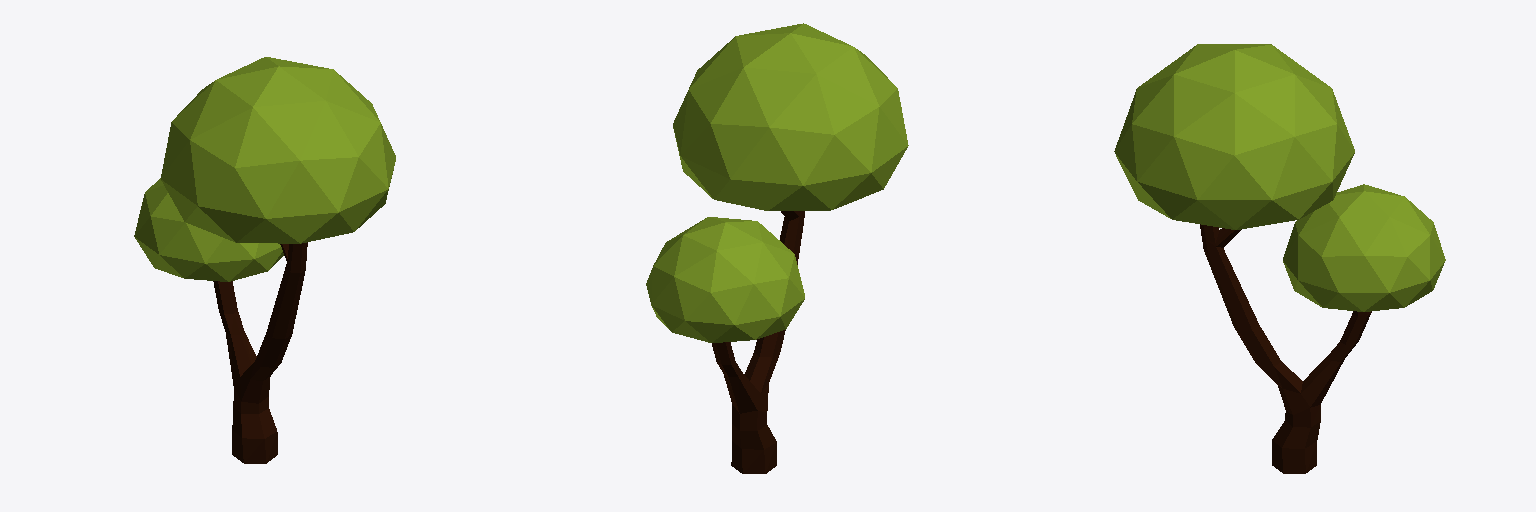
The model's file is Tree1.obj.
3 renders of one model, left to right at view 1: azimuth 30°, elevation 25°; view 2: azimuth 150°, elevation 25°; view 3: azimuth 270°, elevation 25°, orthographic.
Parts seen in each view (by area): view 1: Tree1_Icosphere.002; view 2: Tree1_Icosphere.002; view 3: Tree1_Icosphere.002.
Boxes of the visible parts, x1,y1,x2,y2 form: Tree1_Icosphere.002: [134, 57, 395, 463]; Tree1_Icosphere.002: [646, 23, 908, 473]; Tree1_Icosphere.002: [1114, 44, 1445, 473].
Bounding box in the file's own units: 2.07 × 4.1 × 2.99.